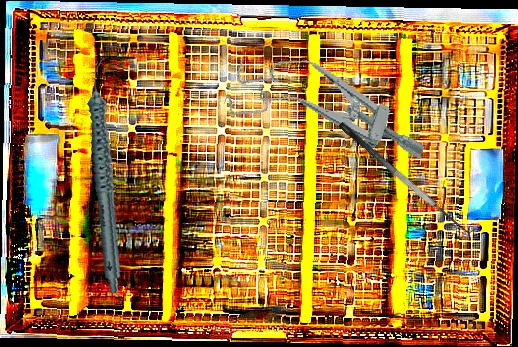Handpiece: (58, 56, 155, 294)
Spatula Surgical: (337, 110, 480, 242)
Speculum: (221, 39, 439, 175)
